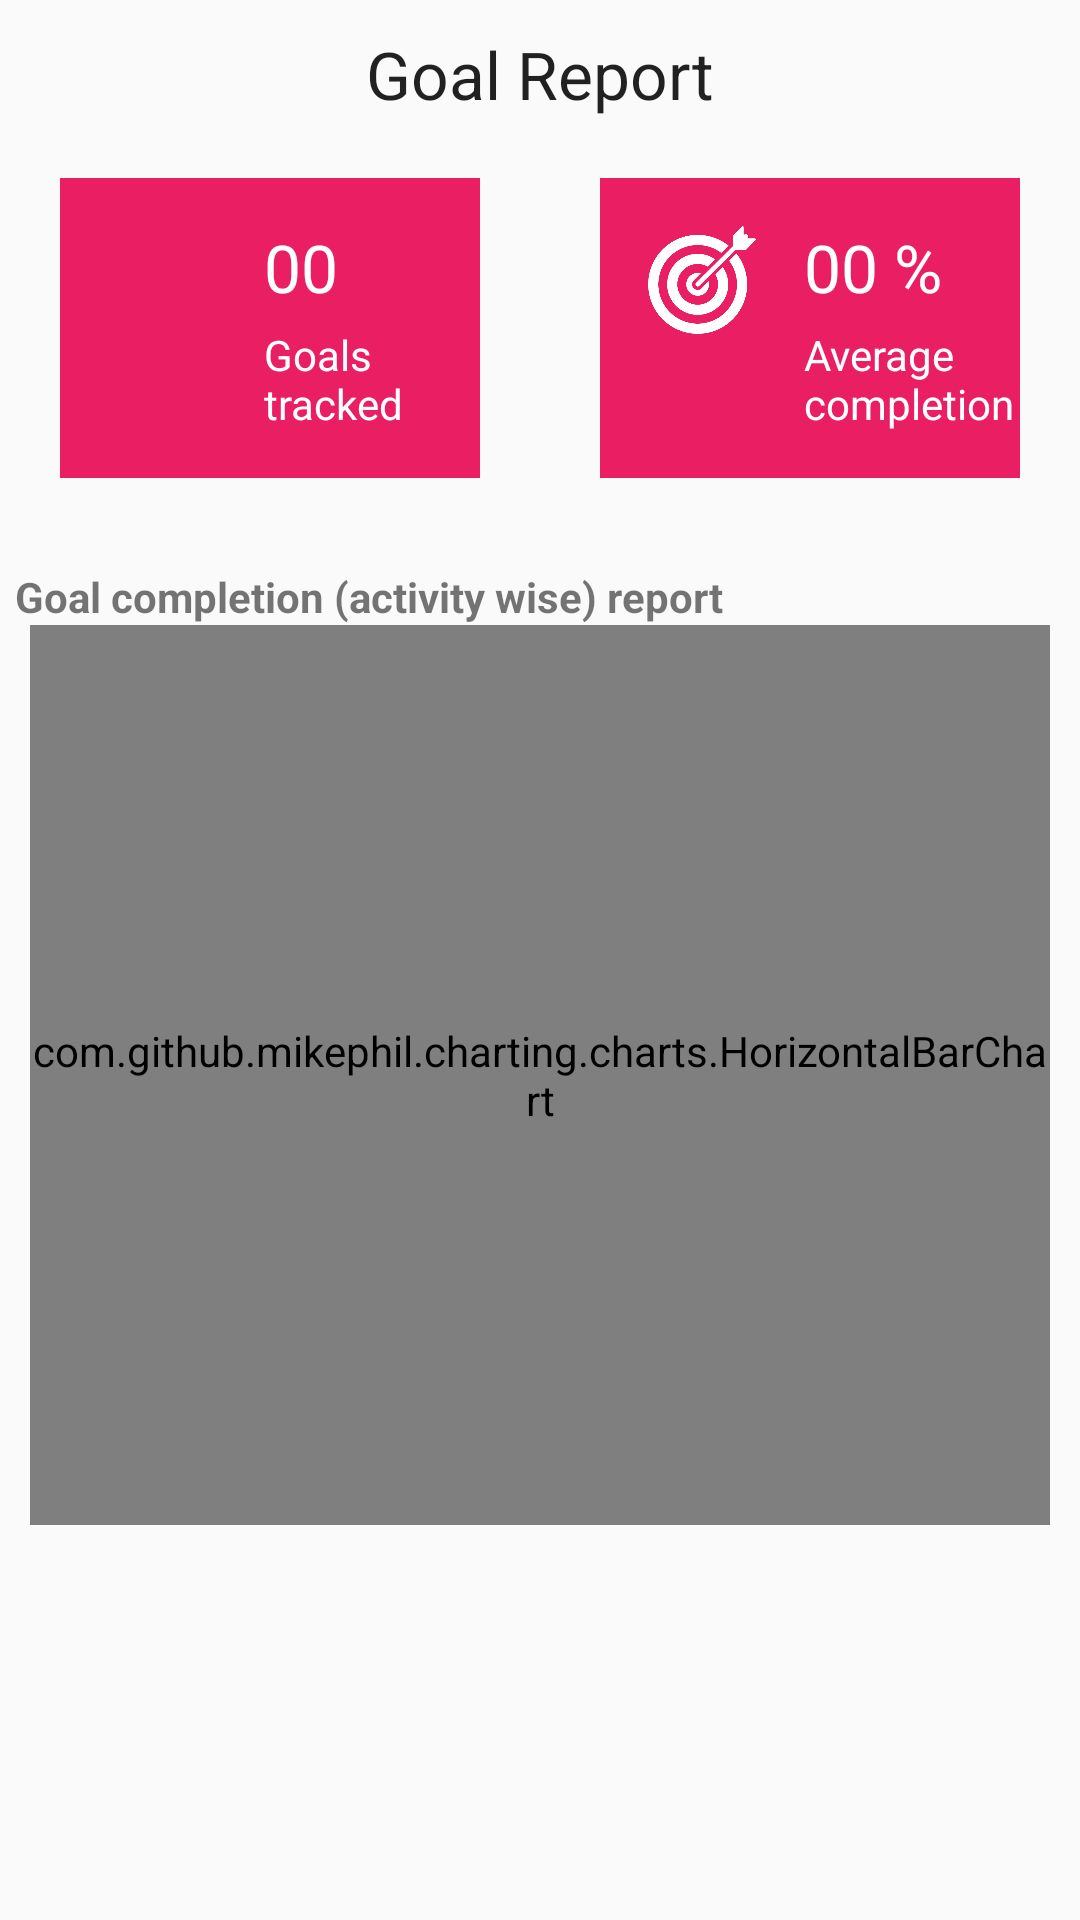

Where icons sit on this 1080×1920 app screen, as (x1=x1, y1=y1, x2=x2, y2=y2):
target: (x1=648, y1=226, x2=756, y2=334)
